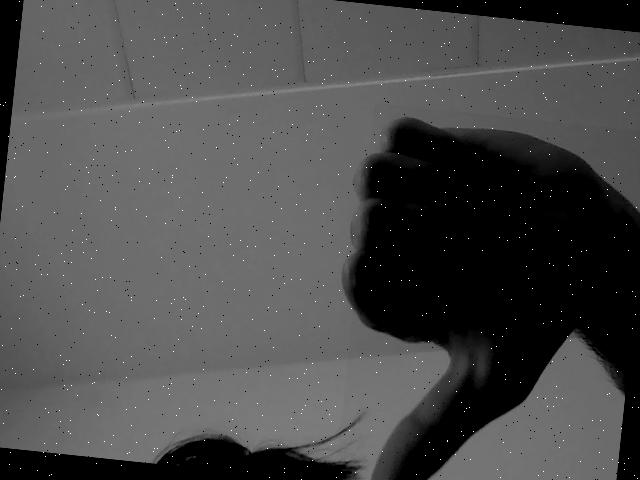bad: (335, 103, 640, 480)
